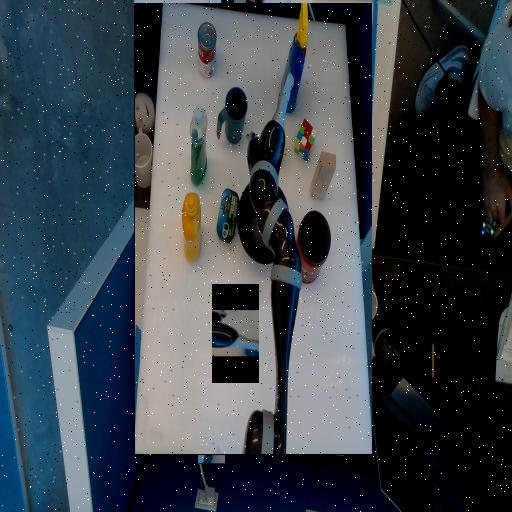bowl: (218, 194, 268, 279)
cleanser: (299, 303, 316, 319)
coffee_can: (176, 174, 214, 245)
jaco: (212, 310, 259, 352)
meat_can: (268, 214, 289, 267)
mug: (258, 326, 289, 356)
mustard_bottle: (306, 195, 324, 263)
rubik: (190, 305, 212, 327)
soup_can: (291, 379, 308, 434)
tennis_ball: (221, 300, 238, 317)
windex: (198, 345, 225, 463)
wooden_block: (170, 268, 195, 293)
workspace: (134, 3, 372, 454)
